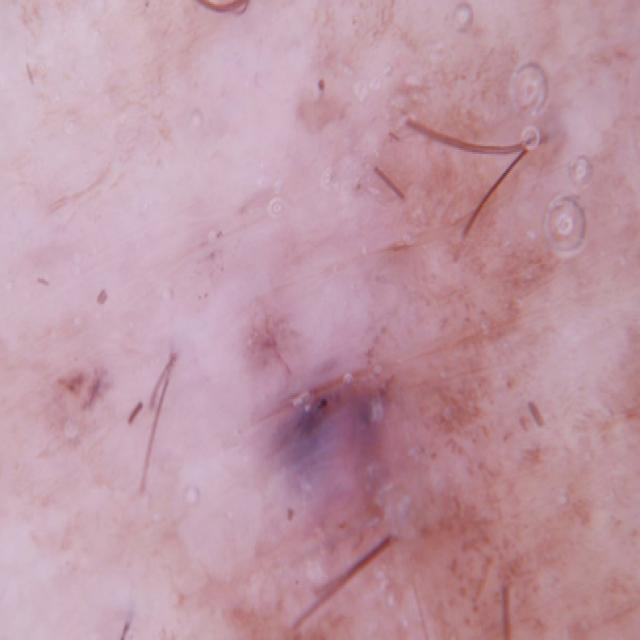Carcinoma: (216, 304, 402, 519)
